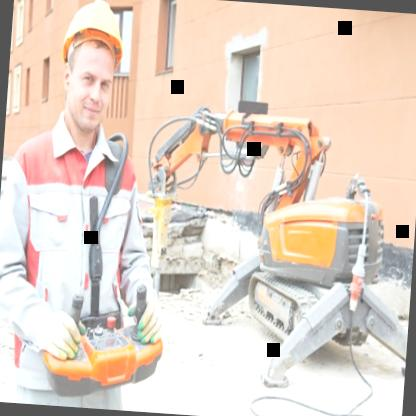helmet: (50, 0, 136, 141)
